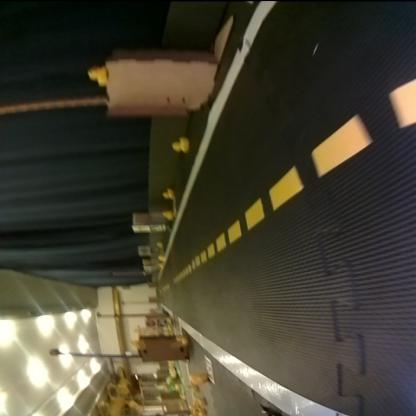Duckie: (88, 66, 106, 86), (172, 138, 188, 152), (188, 372, 204, 384), (162, 190, 172, 198), (175, 336, 185, 344), (185, 386, 197, 392), (162, 212, 172, 219), (195, 398, 203, 405), (196, 409, 204, 414), (130, 341, 138, 346), (158, 262, 164, 268), (158, 256, 164, 260)
Intersection sign: (134, 226, 146, 231)
QR code: (204, 355, 212, 383), (148, 226, 162, 232), (156, 320, 168, 326)
Stop sign: (145, 319, 155, 327)
